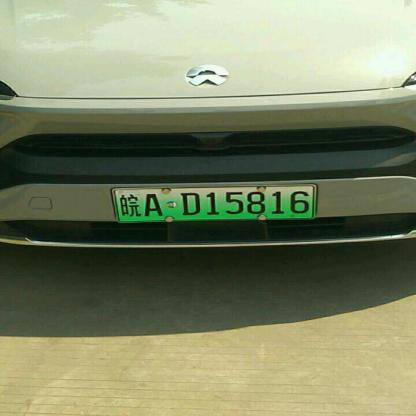lp: (113, 186, 314, 221)
